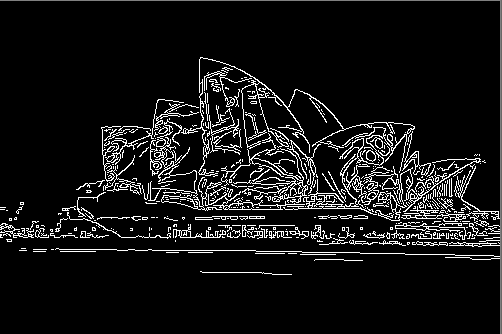opera house: (56, 38, 486, 236)
